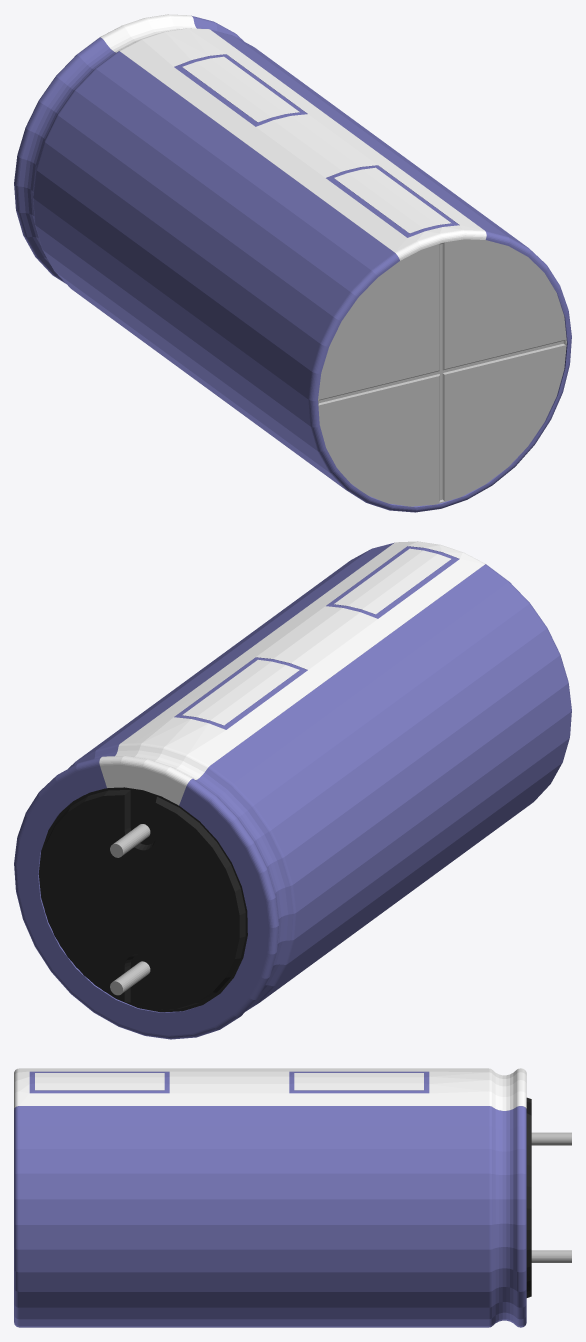
The model's file is cap_el_d20_h40_pitch10_w1.obj.
The picture shows the model from 3 angles, top to bottom: view 1: azimuth 30°, elevation 25°; view 2: azimuth 150°, elevation 25°; view 3: azimuth 270°, elevation 25°; orthographic projection. The views are drawn at different scales.
Parts seen in each view (by area): view 1: cap_el_d20_h40_pitch10_w1; view 2: cap_el_d20_h40_pitch10_w1; view 3: cap_el_d20_h40_pitch10_w1.
Part boxes in pixels (bbox=[...]): cap_el_d20_h40_pitch10_w1: bbox=[14, 14, 571, 512]; cap_el_d20_h40_pitch10_w1: bbox=[14, 541, 571, 1039]; cap_el_d20_h40_pitch10_w1: bbox=[14, 1068, 571, 1327].
Size of the model in its own units: 0.0105 by 0.0105 by 0.0226.
